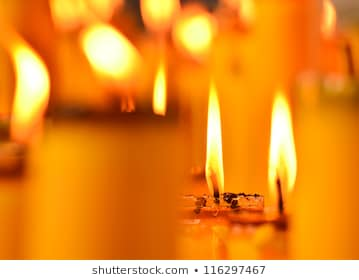Fire: (262, 89, 299, 194), (83, 23, 142, 83), (10, 48, 46, 143), (201, 86, 227, 198), (175, 8, 217, 52), (151, 63, 166, 115)
